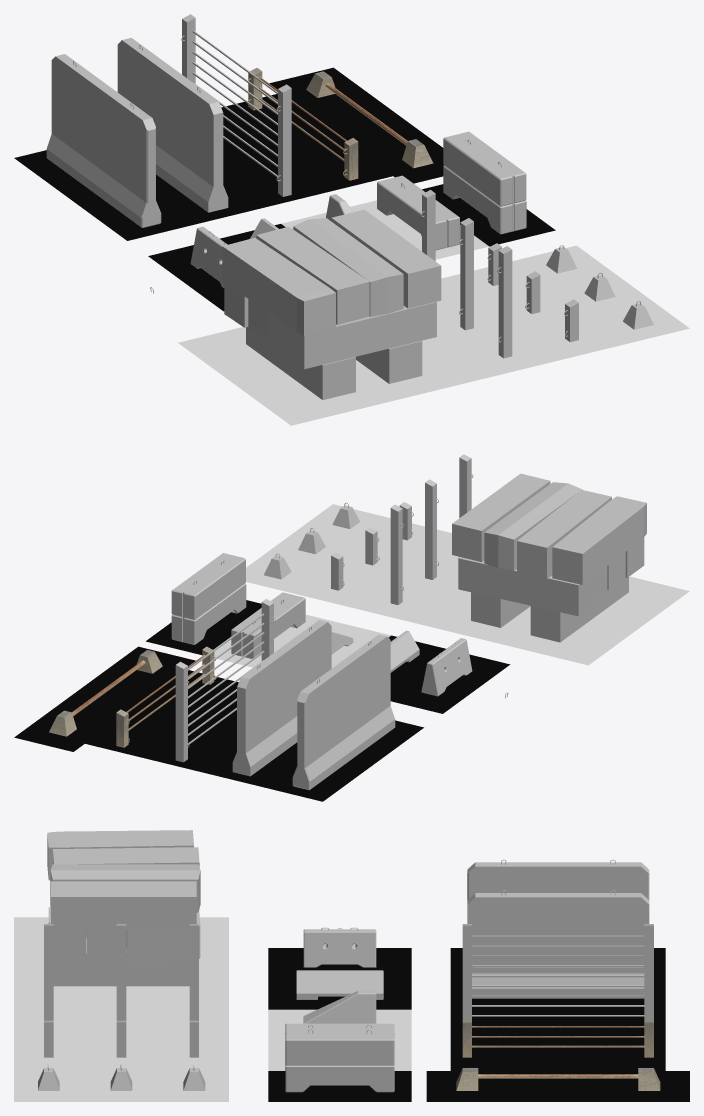
File: Concretes.fbx
3 renders of one model, top to bottom at view 1: azimuth 30°, elevation 25°; view 2: azimuth 150°, elevation 25°; view 3: azimuth 270°, elevation 25°, orthographic. The views are drawn at different scales.
Visible parts, largest first — view 1: var11, var1, var2, Plane.008, Plane.013, var10, Plane.012, var3, var12, Plane.011, Plane.009, var9 (+18 smaller); view 2: var11, var1, var2, Plane.008, Plane.013, var10, Plane.012, var3, var12, Plane.011, Plane.009, Plane (+20 smaller); view 3: var11, var2, Plane.008, Plane.013, var10, Plane.012, var3, Plane.011, var1, var12, var6, Plane.004 (+22 smaller).
Part boxes in pixels (box(x1,y1,x2,y2)): var11: box(222, 209, 441, 399); var1: box(46, 54, 161, 227); var2: box(117, 37, 228, 212); Plane.008: box(178, 327, 490, 425); Plane.013: box(269, 67, 443, 183); var10: box(443, 131, 526, 234); Plane.012: box(221, 94, 392, 192); var3: box(181, 14, 291, 196); var12: box(421, 190, 512, 358); Plane.011: box(223, 117, 326, 208); Plane.009: box(14, 150, 193, 240); var9: box(377, 175, 459, 250); var11: box(452, 473, 646, 642); var1: box(292, 634, 395, 790); var2: box(232, 620, 331, 776); Plane.008: box(410, 576, 689, 665); Plane.013: box(14, 646, 195, 751); var10: box(171, 553, 246, 644); Plane.012: box(85, 670, 238, 758); var3: box(175, 599, 275, 762); var12: box(390, 454, 473, 604); Plane.011: box(145, 691, 236, 772); Plane.009: box(264, 720, 423, 801); Plane: box(390, 654, 510, 713); var11: box(47, 830, 200, 986); var2: box(467, 890, 649, 998); Plane.008: box(14, 917, 228, 1009); Plane.013: box(426, 1071, 689, 1101); var10: box(285, 1028, 394, 1092); Plane.012: box(450, 1040, 665, 1070); var3: box(462, 924, 653, 1020); Plane.011: box(450, 1009, 665, 1040); var1: box(467, 859, 649, 899); var12: box(44, 924, 198, 1020); var6: box(303, 927, 376, 967); Plane.004: box(268, 1071, 411, 1101).
Size of the model in its own units: 1200 by 317 by 1857.
